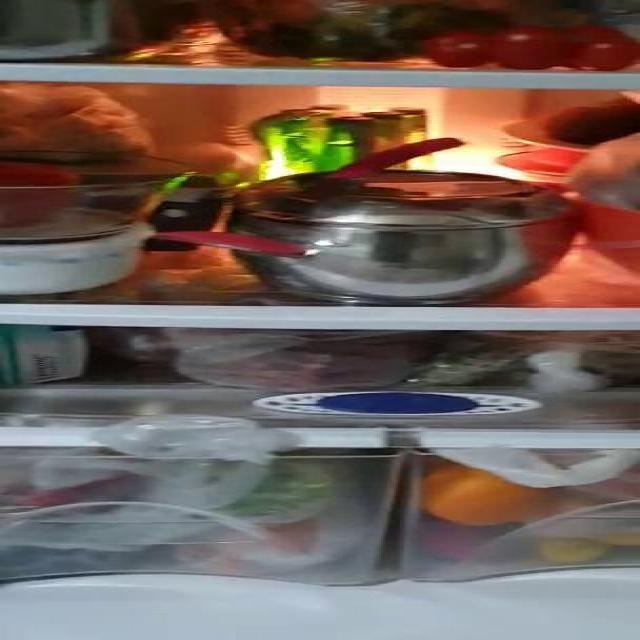mineral water: (268, 104, 382, 164)
orange: (425, 464, 550, 523)
tomato: (436, 25, 637, 69)
